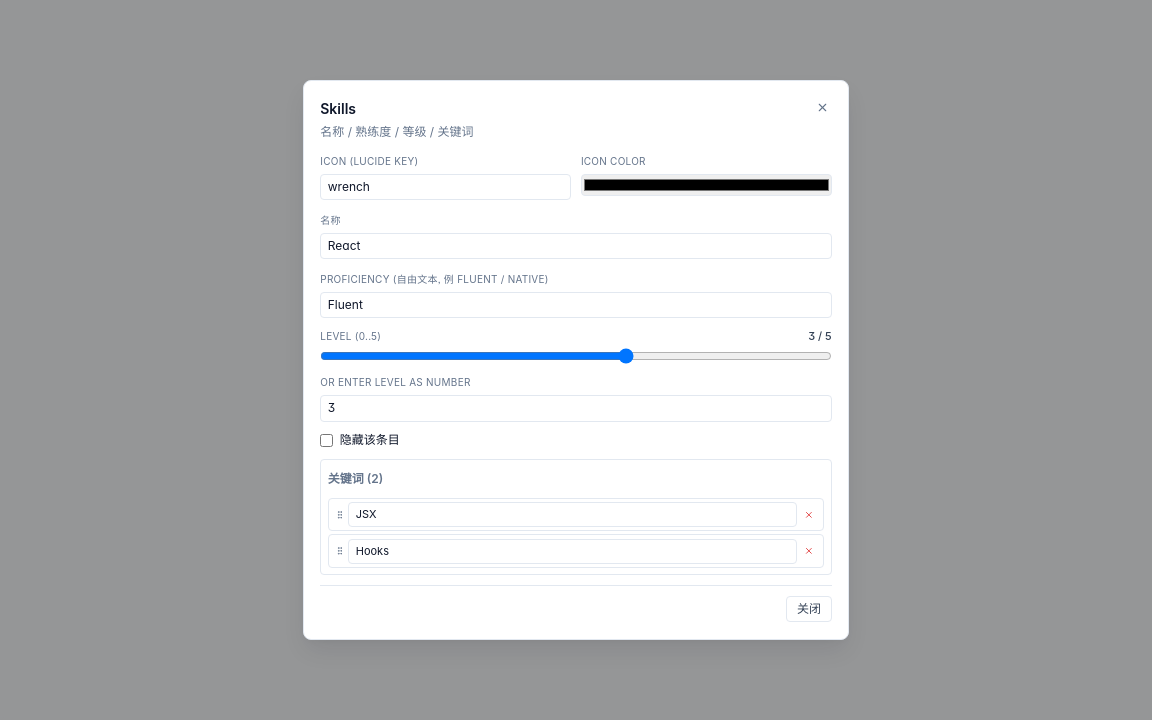
Test: SkillsDialog (AC-06, AC-10, AC-13b, AC-14, AC-16) › non-integer level input is rejected with red border + toast (AC-10)
Replace the text in the number field with test id "skills-level-input" with "3.7" at (576, 408), box [320,395,832,422]
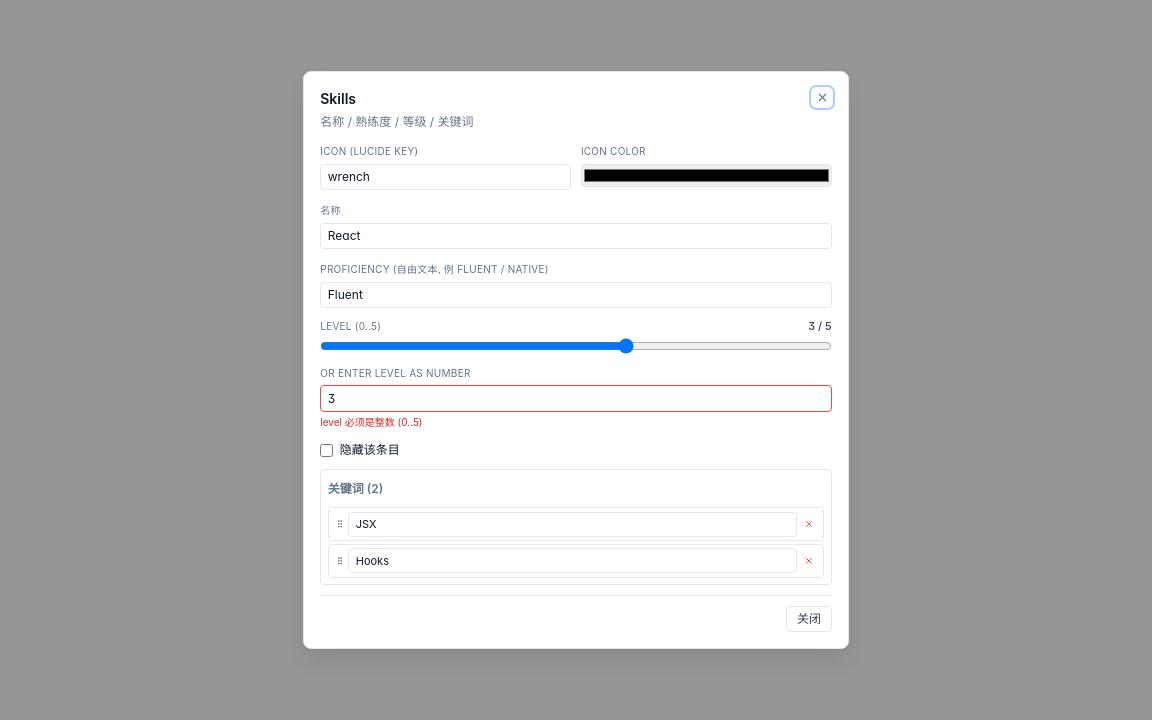
Result: the message "level 必须是整数 (0..5)" is shown at [320,416,423,428]
